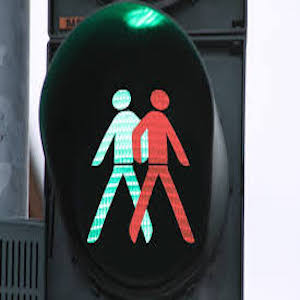green: (88, 90, 148, 247)
red: (137, 88, 198, 255)
